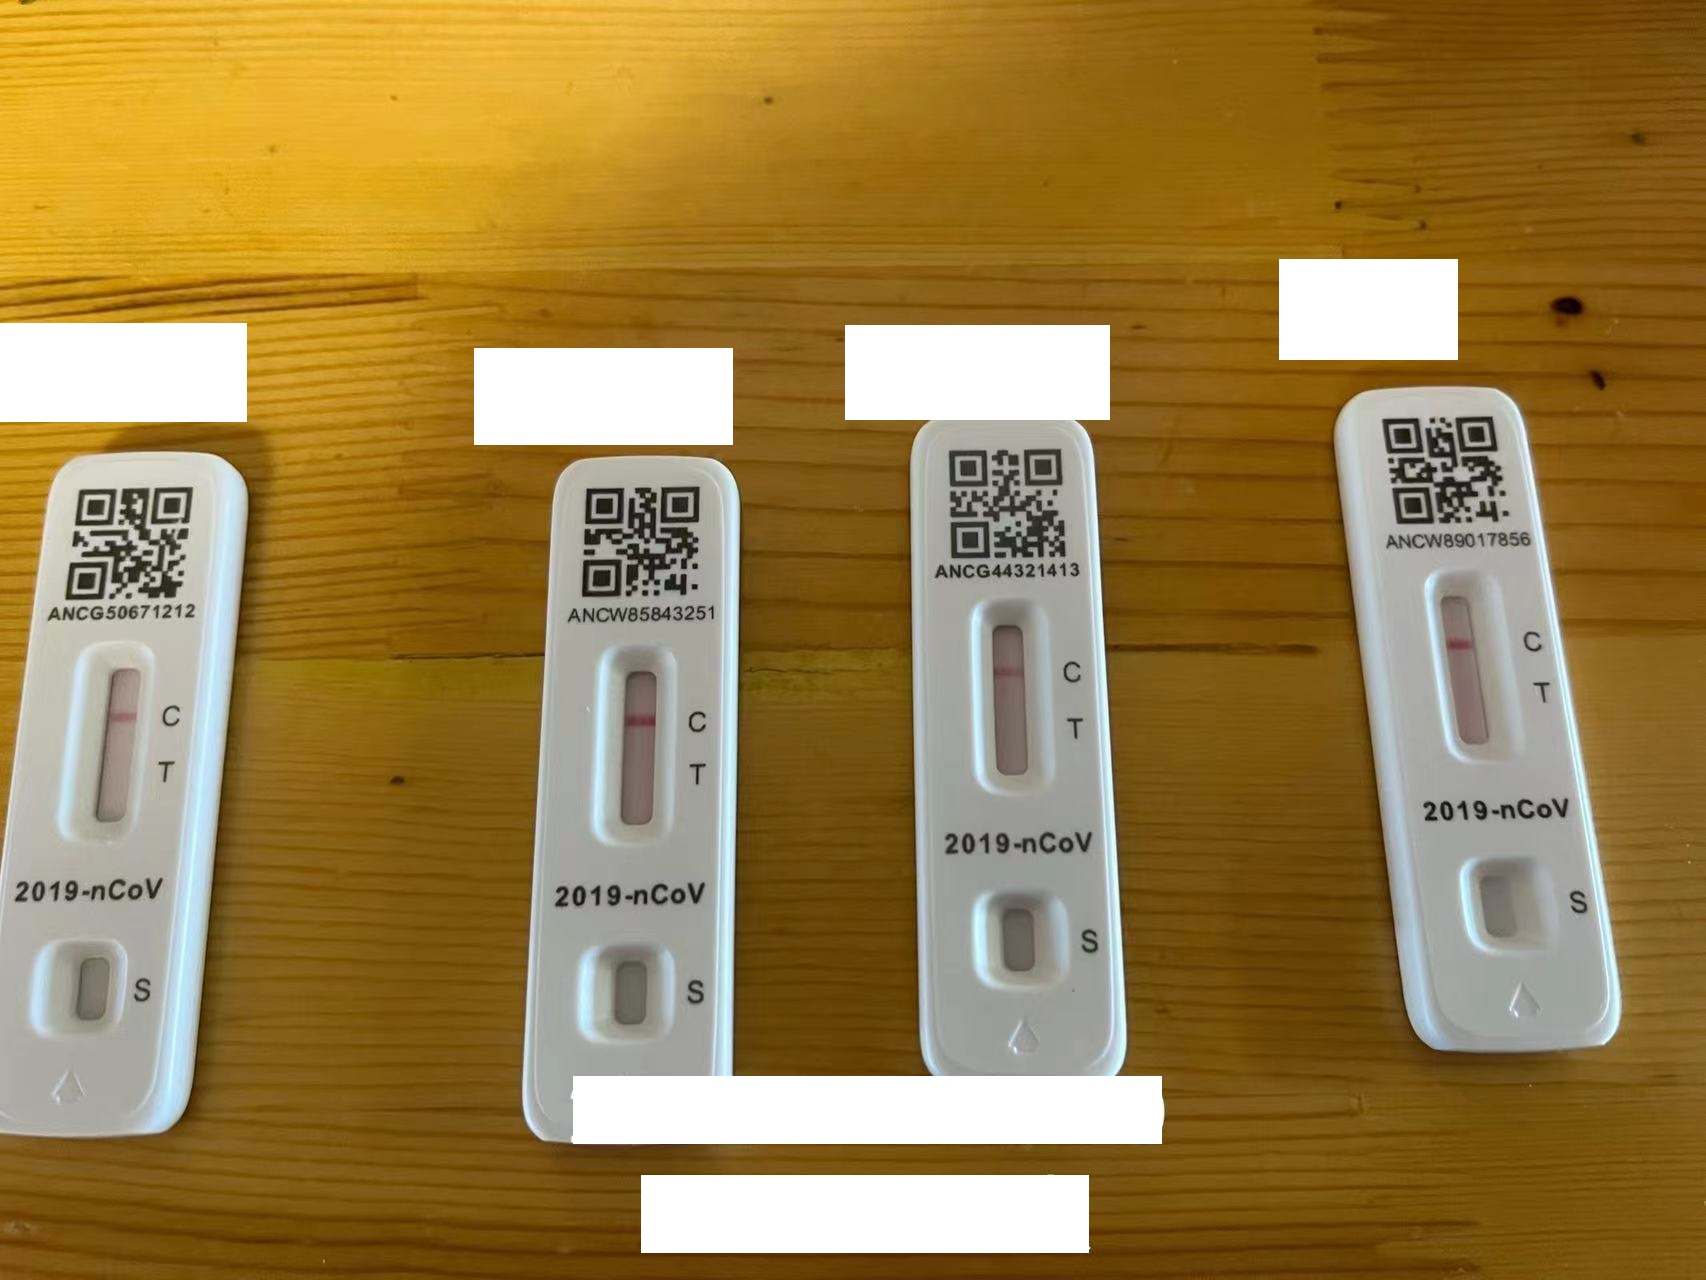negative: (65, 643, 151, 838), (592, 645, 674, 844), (1430, 567, 1512, 765), (973, 598, 1046, 795)
